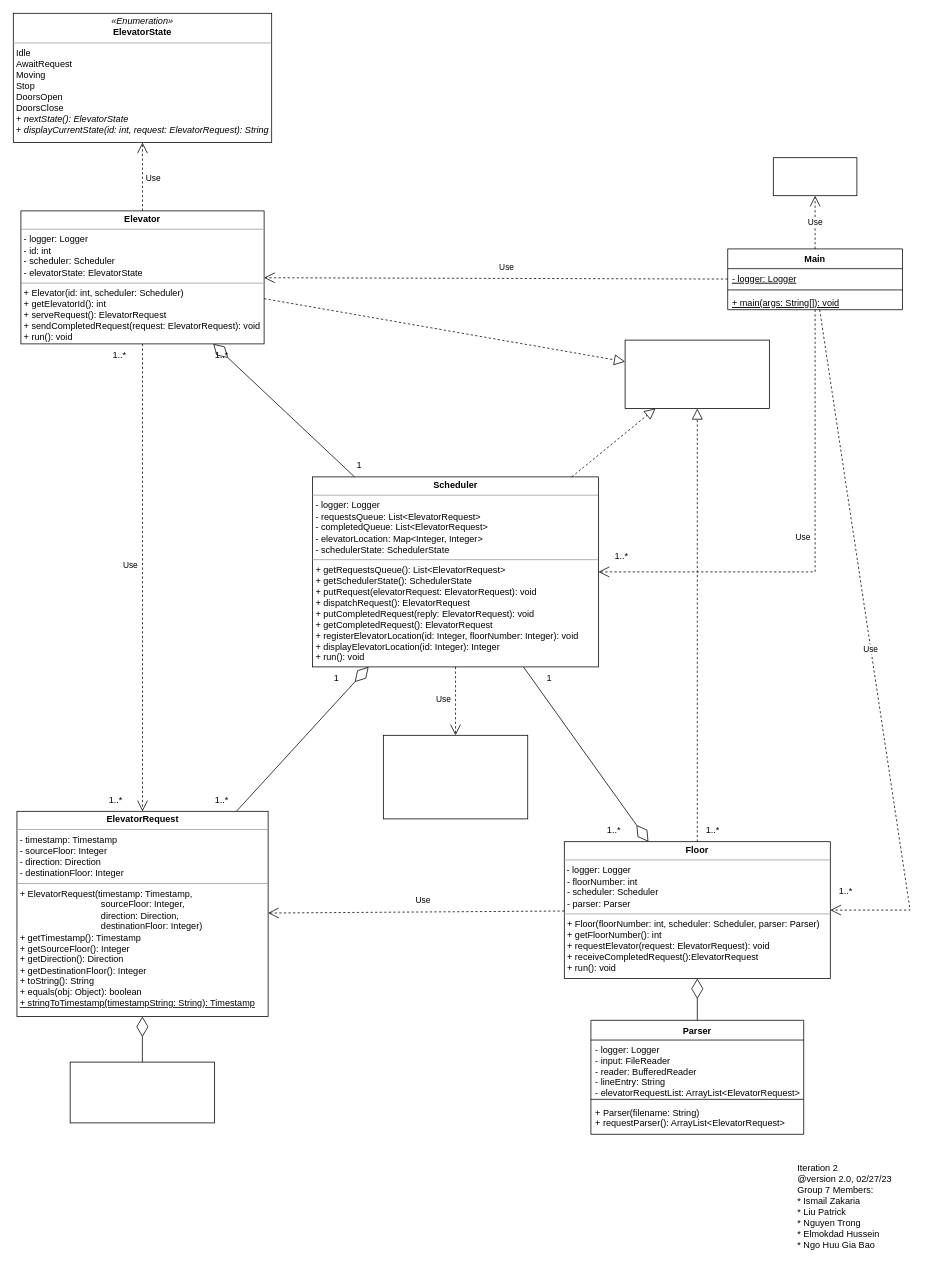
Image size: 934x1273. Some labels were removed from this diagram. The centre of each missing label's shape, as x and y in pixels:
"java.lang.Thread" belongs at (815,176).
"«Enumeration» Direction UP DOWN" belongs at (142,1092).
"«Enumeration» SchedulerState Idle Ready InService + nextState(): ElevatorState" belongs at (455,777).
"«Interface» Runnable + run(): void" belongs at (697,373).
